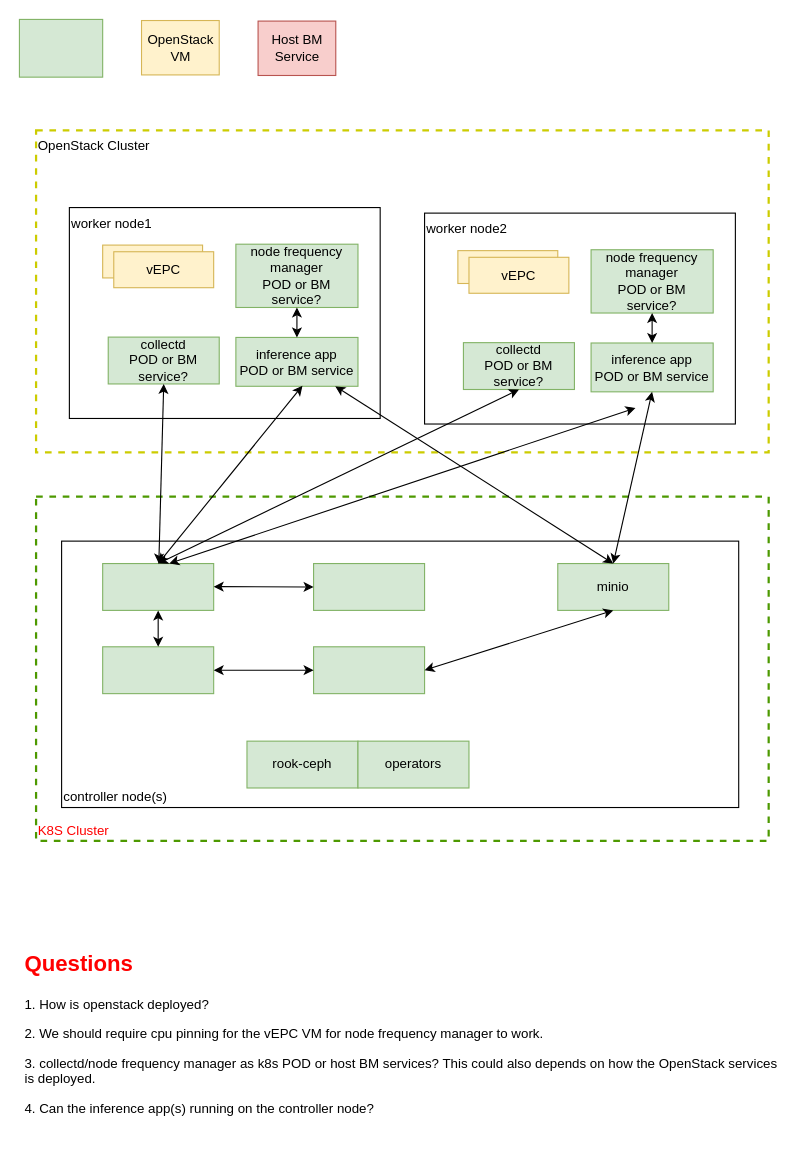
Image size: 810x1149. Some labels were removed from this diagram. The centre of each missing label's shape, as x and y in pixels:
"grafana" belongs at point 368,586.
"k8s POD" belongs at point 60,47.
"m3DB" belongs at point 158,670.
"Prometheus" belongs at point 158,586.
"training app" belongs at point 368,670.
